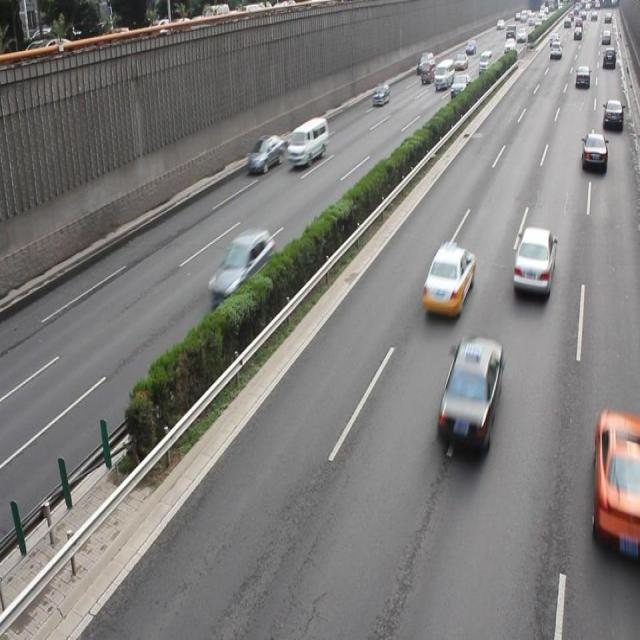car: (435, 333, 502, 458), (592, 409, 640, 560), (208, 228, 274, 304), (421, 240, 474, 318), (511, 226, 556, 298), (248, 134, 284, 172), (581, 132, 606, 173), (601, 98, 622, 131)
truck: (286, 116, 328, 166)
